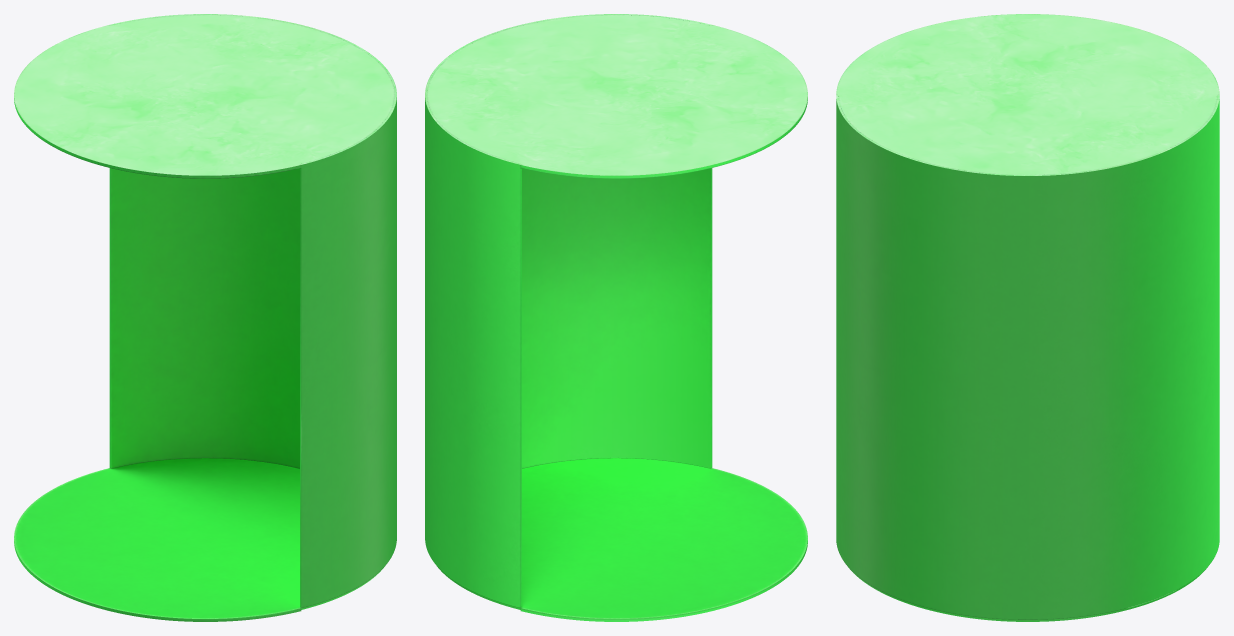
File: cylinder_table_texture4.glb
3 renders of one model, left to right at view 1: azimuth 30°, elevation 25°; view 2: azimuth 150°, elevation 25°; view 3: azimuth 270°, elevation 25°, orthographic.
Visible parts, largest first — view 1: body; view 2: body; view 3: body.
Part boxes in pixels (x1,y1,x2,y2): body: [14, 14, 396, 621]; body: [425, 14, 807, 621]; body: [836, 14, 1219, 621].
Bounding box in the file's own units: 0.35 × 0.453 × 0.35.
1 material, 1 textured.
